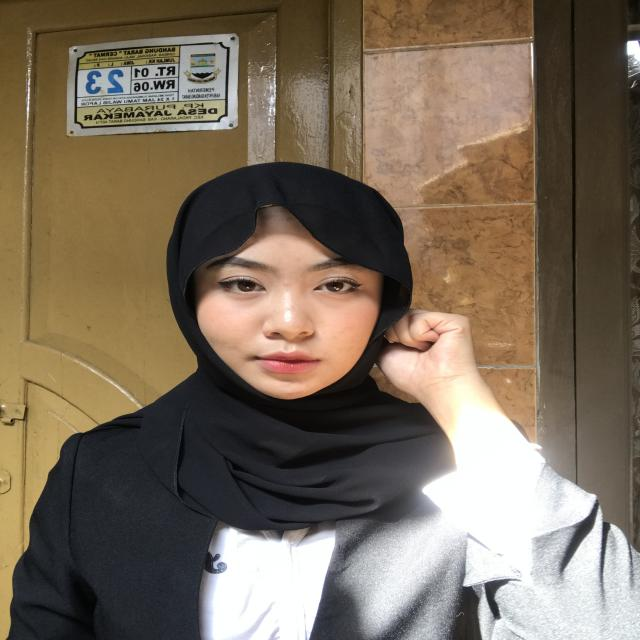ibu: (356, 292, 485, 424)
